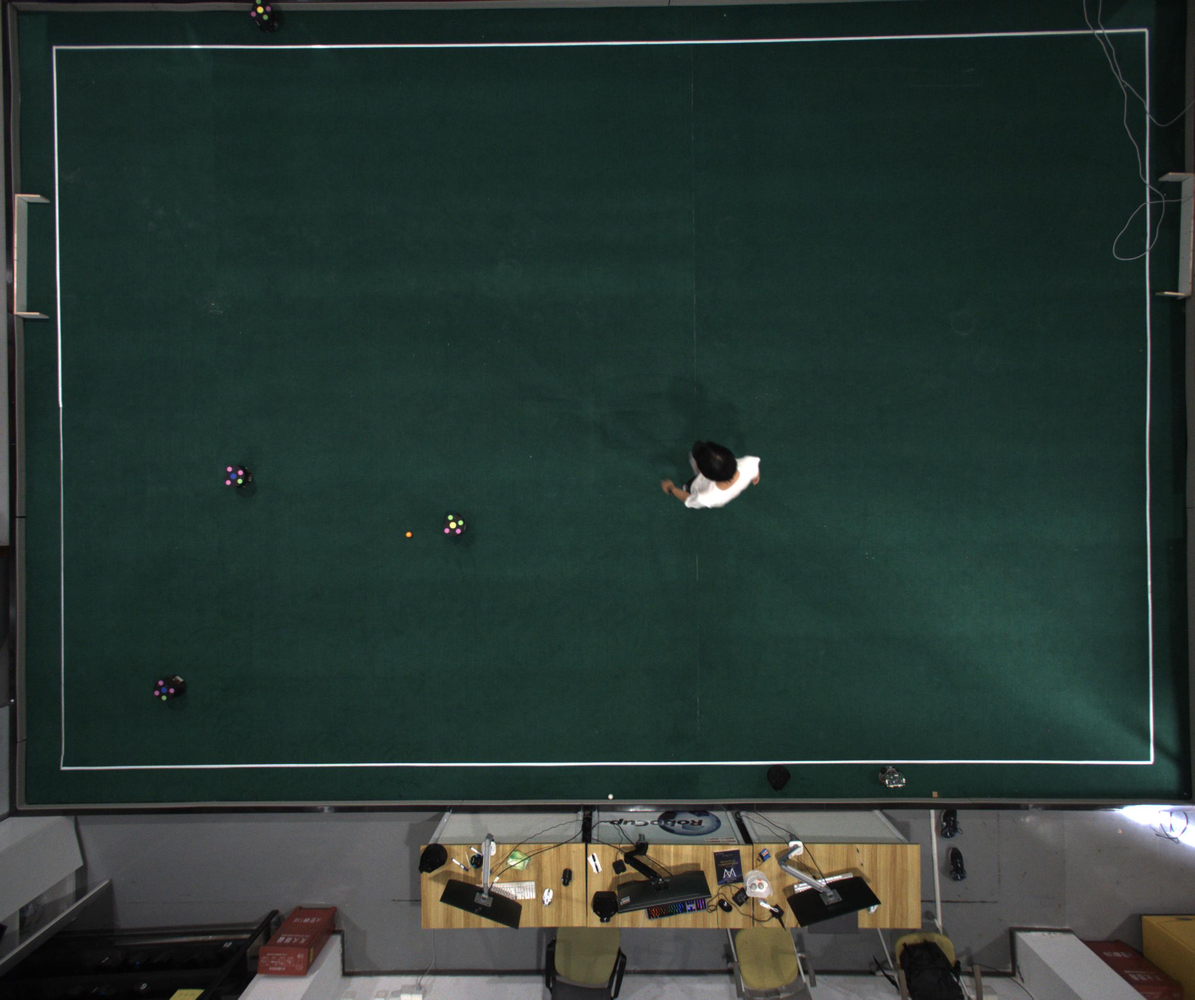ball: (405, 531, 412, 537)
blue_bot: (153, 679, 176, 701), (225, 465, 245, 487)
yellow_bot: (250, 0, 273, 23), (444, 514, 464, 536)
